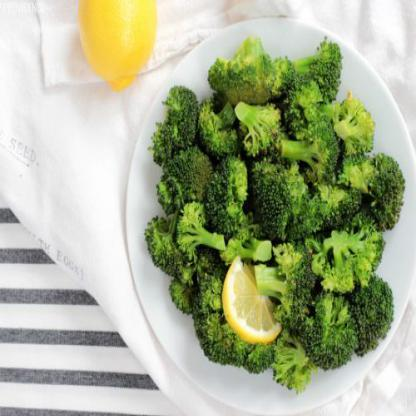broccoli: (144, 35, 410, 398)
